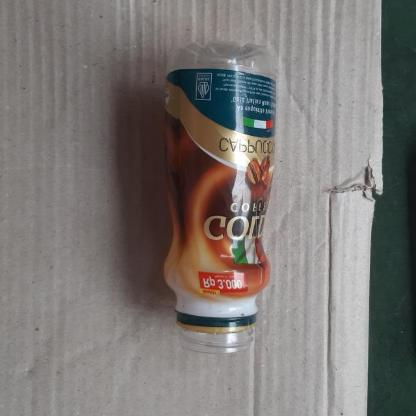Plastic Bottle: (160, 43, 282, 355)
